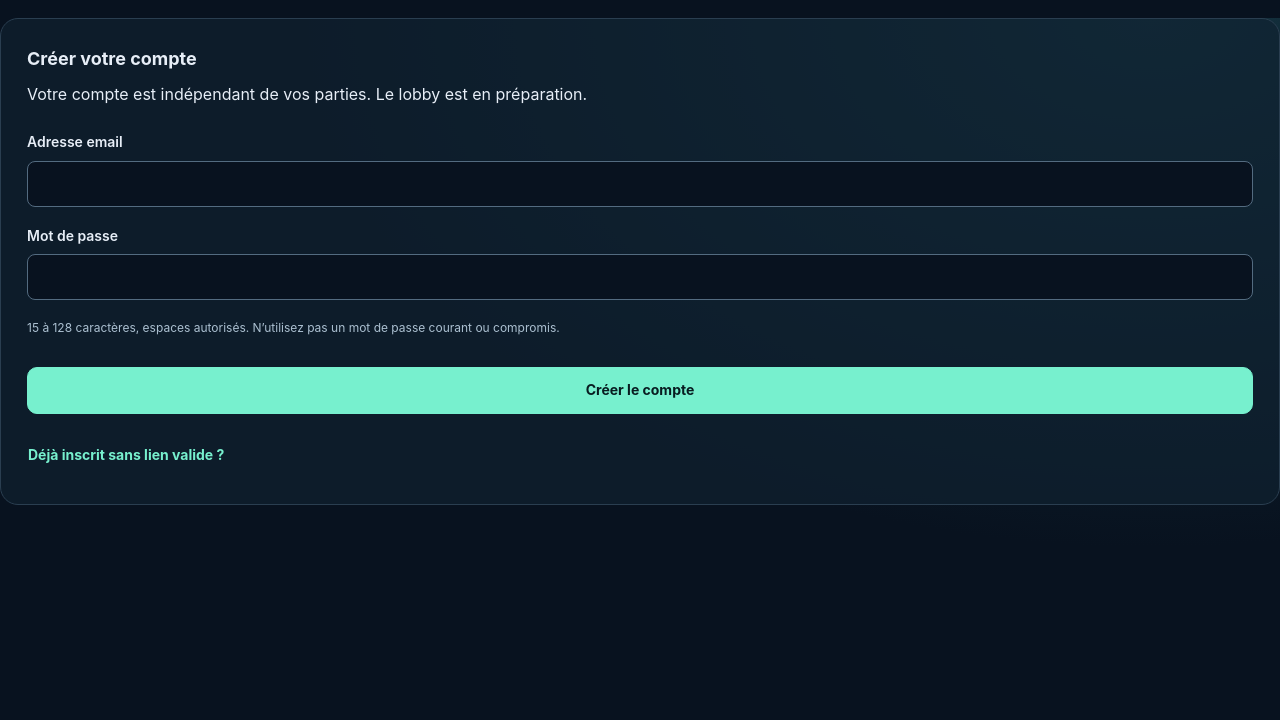
Test: registration posts credentials once, clears password and shows a non-enumerable result
Type "player@example.org" into the field labelled "Adresse email" at (640, 184), box x1=27 y1=161 x2=1253 y2=207
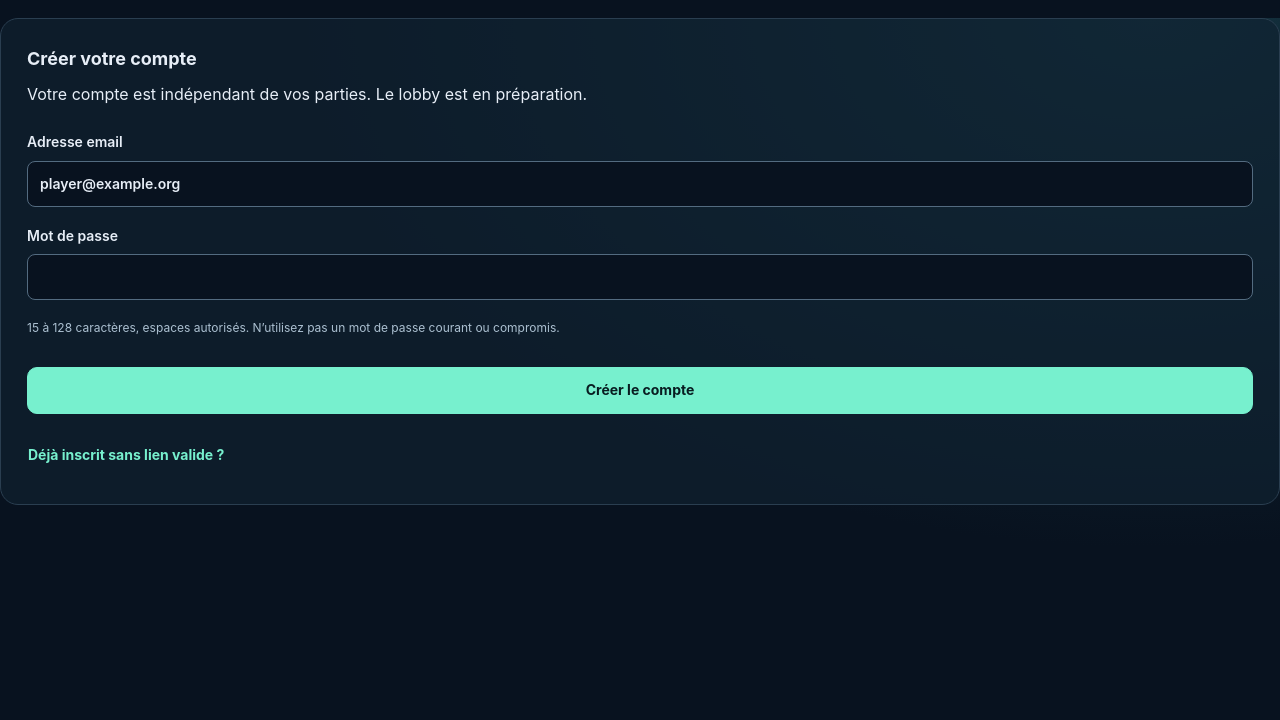
Type "C02 strong test phrase 2026 !" into the password field labelled "Mot de passe" at (640, 277), box x1=27 y1=254 x2=1253 y2=300
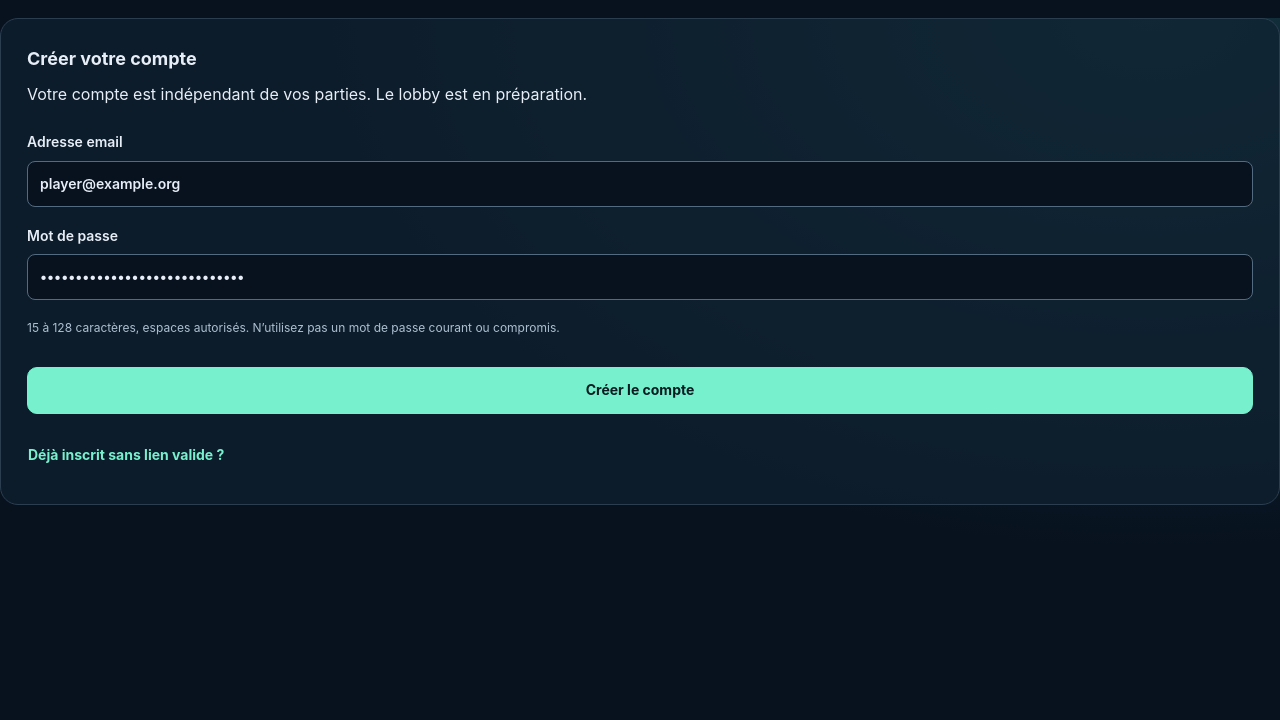
Click the button "Créer le compte" at (640, 391), box x1=27 y1=367 x2=1253 y2=414
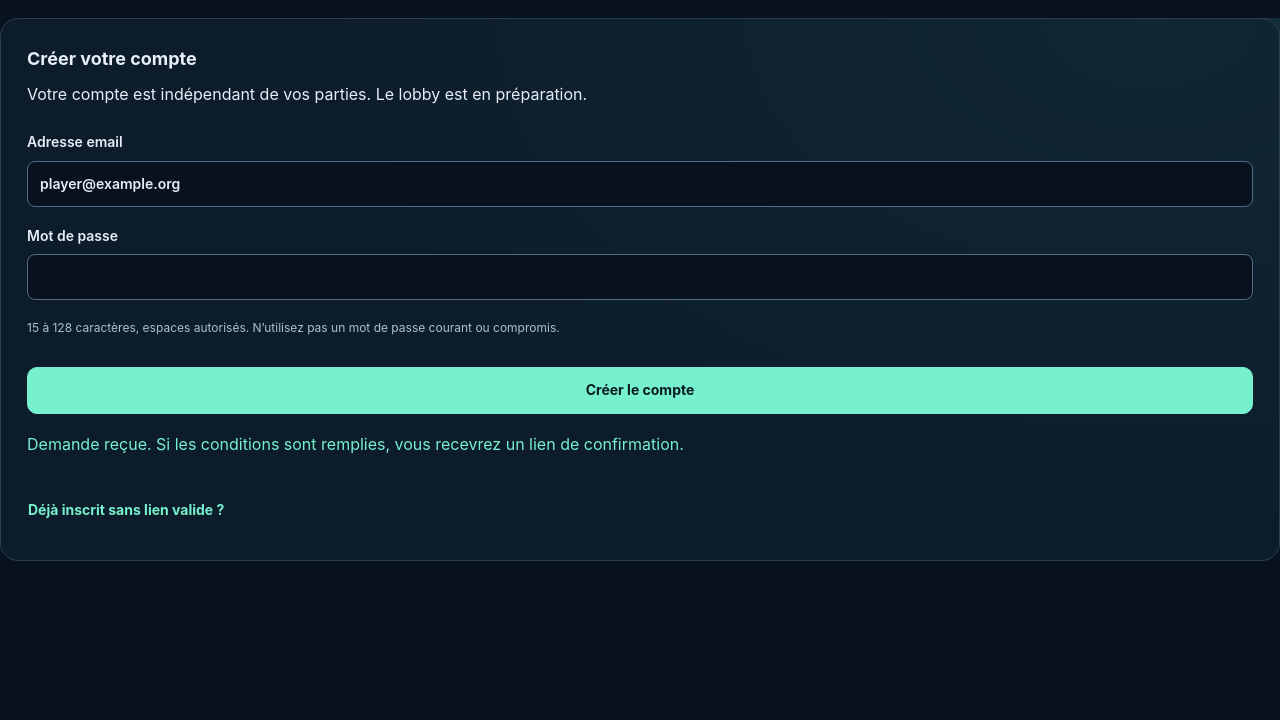
expect the text "Demande reçue" is shown: met, box x1=27 y1=434 x2=684 y2=454
expect the password field labelled "Mot de passe" is empty: met, box x1=27 y1=254 x2=1253 y2=300
